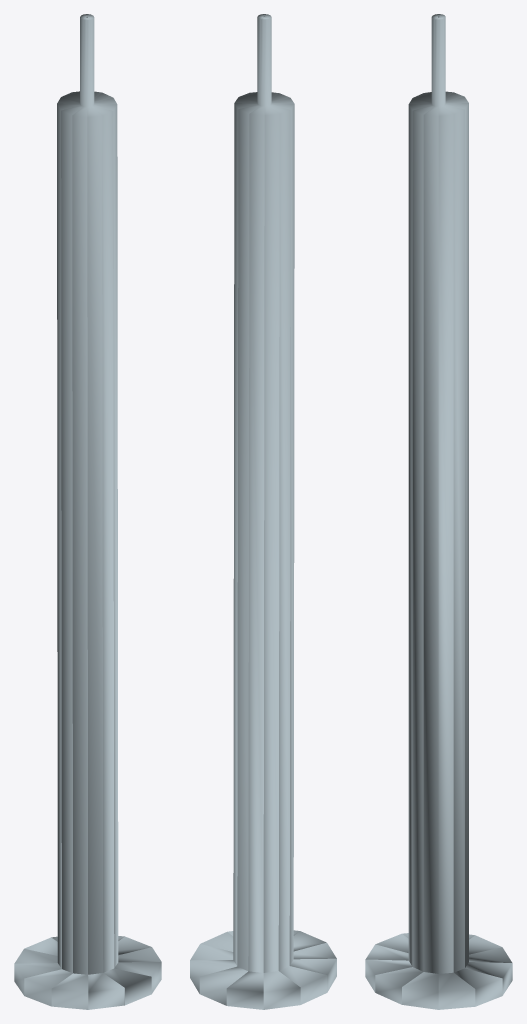
File: ver1.gltf
3 renders of one model, left to right at view 1: azimuth 30°, elevation 25°; view 2: azimuth 150°, elevation 25°; view 3: azimuth 270°, elevation 25°, orthographic.
Visible parts, largest first — view 1: barrierMedium.001; view 2: barrierMedium.001; view 3: barrierMedium.001.
Boxes of the visible parts, left/top/right/bottom form: barrierMedium.001: left=14, top=14, right=161, bottom=1009; barrierMedium.001: left=190, top=14, right=336, bottom=1009; barrierMedium.001: left=365, top=14, right=512, bottom=1009.
Size of the model in its own units: 0.1862 by 1.35 by 0.1861.
